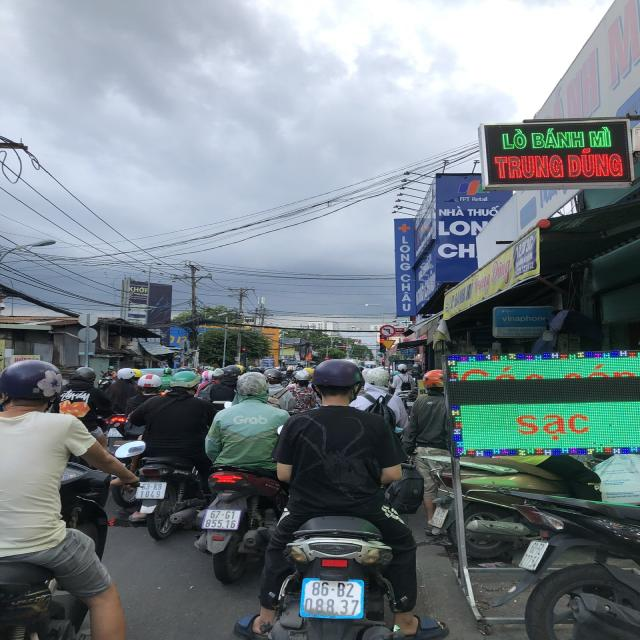Bien bao cam re trai: (379, 324, 399, 338)
Bien bao giao nhau voi duong uu tien: (378, 338, 398, 351)
